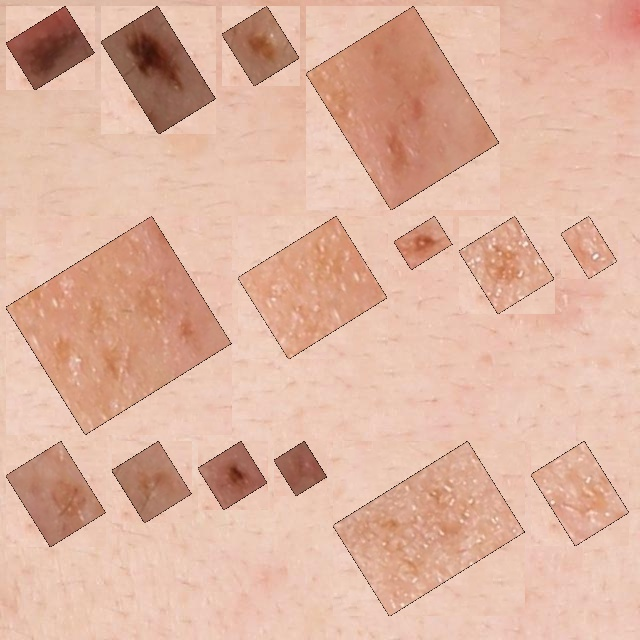melasma: (17, 227, 220, 423), (317, 17, 488, 199), (344, 452, 514, 605), (249, 227, 376, 348), (17, 452, 95, 536), (542, 452, 618, 535), (470, 227, 543, 303), (123, 452, 180, 512), (233, 17, 288, 75)
nevus: (112, 17, 205, 123), (17, 17, 83, 79), (209, 452, 256, 499), (405, 227, 441, 258)
pustule: (572, 227, 606, 267)
